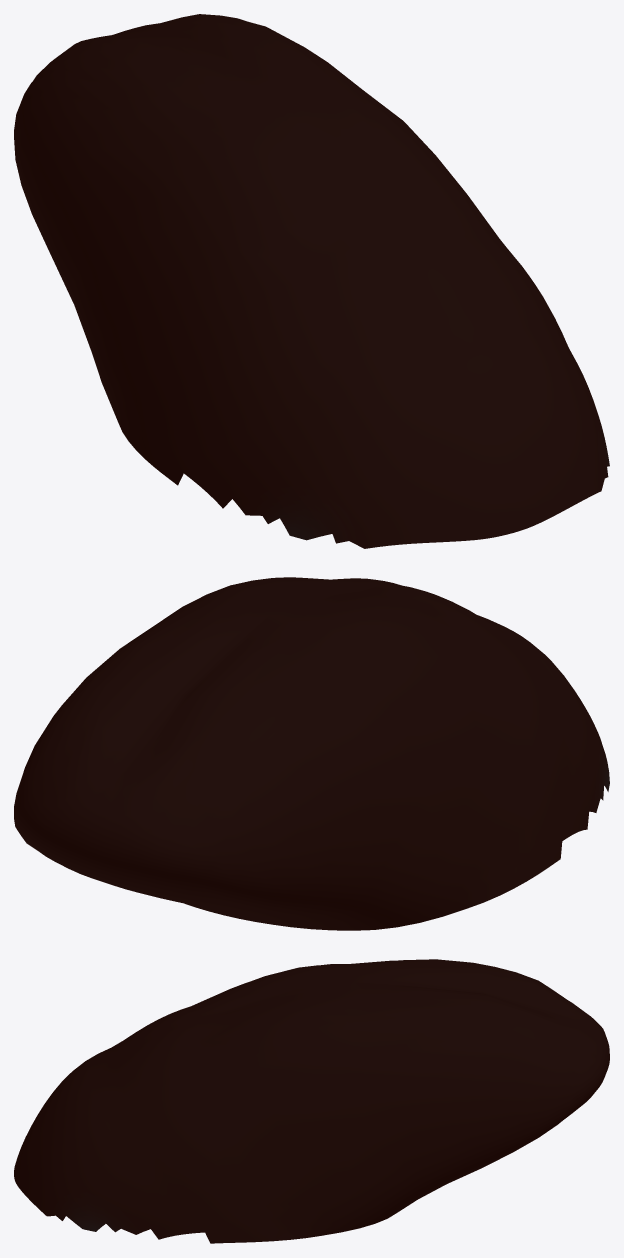
The model's file is front06.dae.
3 views of the same model, one above another, from view 1: azimuth 30°, elevation 25°; view 2: azimuth 150°, elevation 25°; view 3: azimuth 270°, elevation 25° (orthographic). The views are drawn at different scales.
Visible parts, largest first — view 1: Body; view 2: Body; view 3: Body.
Part boxes in pixels (x1=…): Body: x1=14, y1=14, x2=609, y2=548; Body: x1=14, y1=577, x2=609, y2=930; Body: x1=14, y1=959, x2=609, y2=1243.
Bounding box in the file's own units: 15.31 × 28.57 × 10.38.
